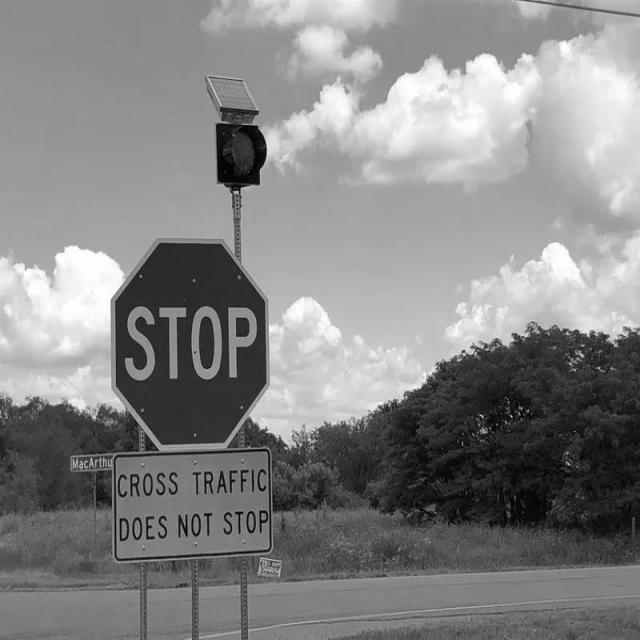Stop-sign: (88, 225, 282, 462)
